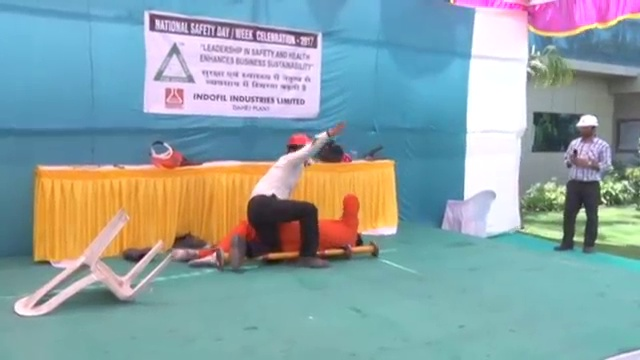helmet: (573, 113, 601, 129), (287, 133, 312, 147)
helmet_on: (572, 112, 601, 142), (286, 133, 312, 160)
person: (230, 126, 336, 272), (173, 195, 364, 258), (555, 113, 614, 256)
